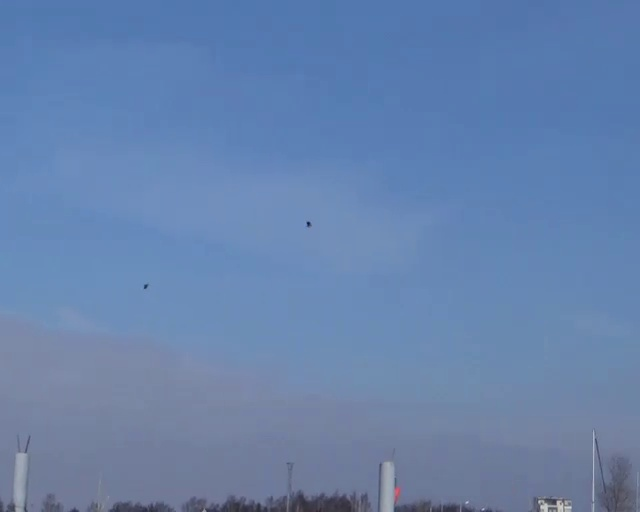BIRD: (143, 283, 149, 289)
